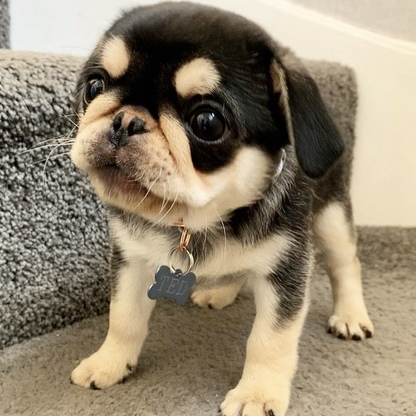Pug: (62, 1, 378, 416)
